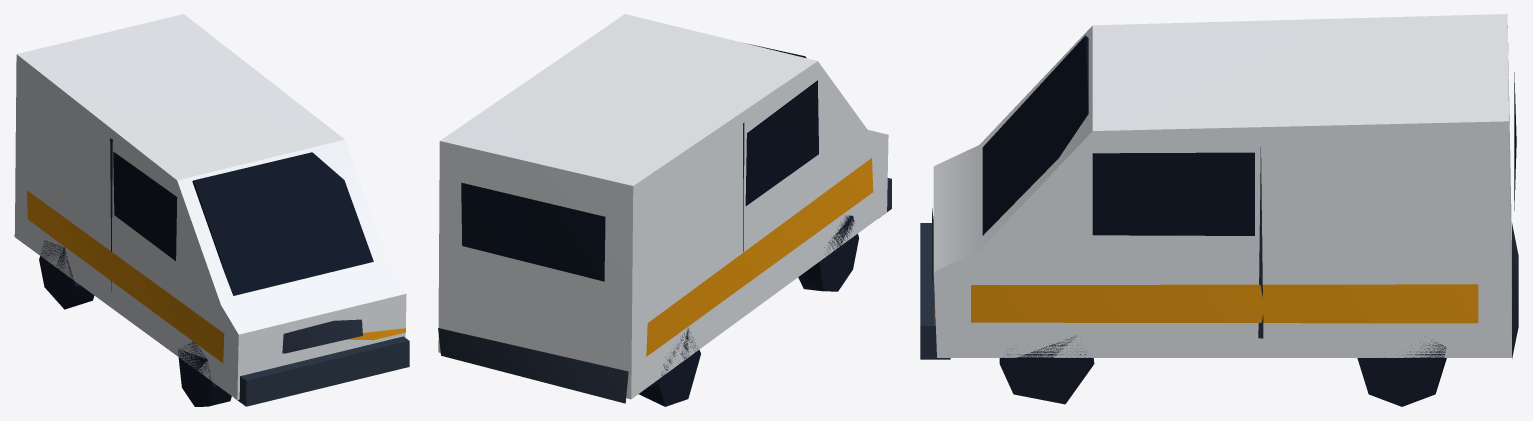
Rendered from kei_van.glb.
3 views of the same model, side by side, from view 1: azimuth 30°, elevation 25°; view 2: azimuth 150°, elevation 25°; view 3: azimuth 270°, elevation 25° (orthographic). The views are drawn at different scales.
Visible parts, largest first — view 1: kei_van; view 2: kei_van; view 3: kei_van.
Part boxes in pixels (<box>): kei_van: <box>14,14,409,406</box>; kei_van: <box>438,14,891,406</box>; kei_van: <box>920,14,1518,406</box>.
Size of the model in its own units: 1.5 by 1.87 by 3.54.
Materials: 1 (1 with a texture image).
